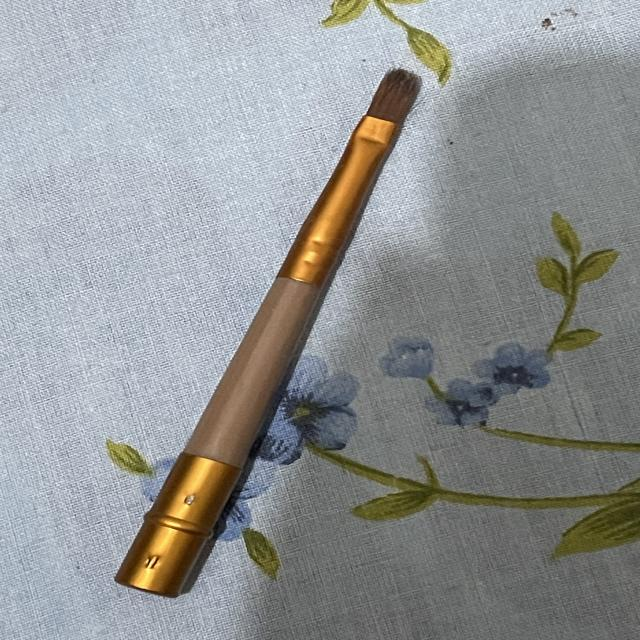brush: (86, 49, 487, 599)
